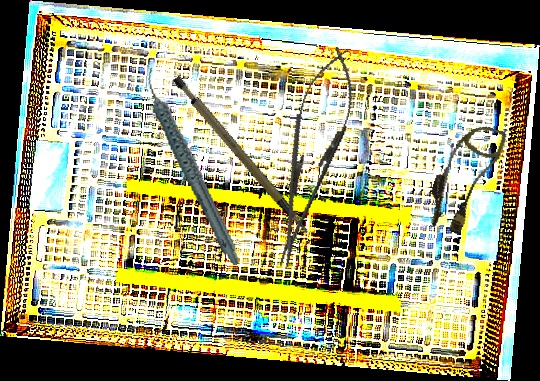Cannula: (421, 116, 508, 239)
Handpiece: (143, 57, 243, 276)
Needle Holder: (256, 41, 367, 275)
Scalpel Handle: (170, 61, 310, 253)
